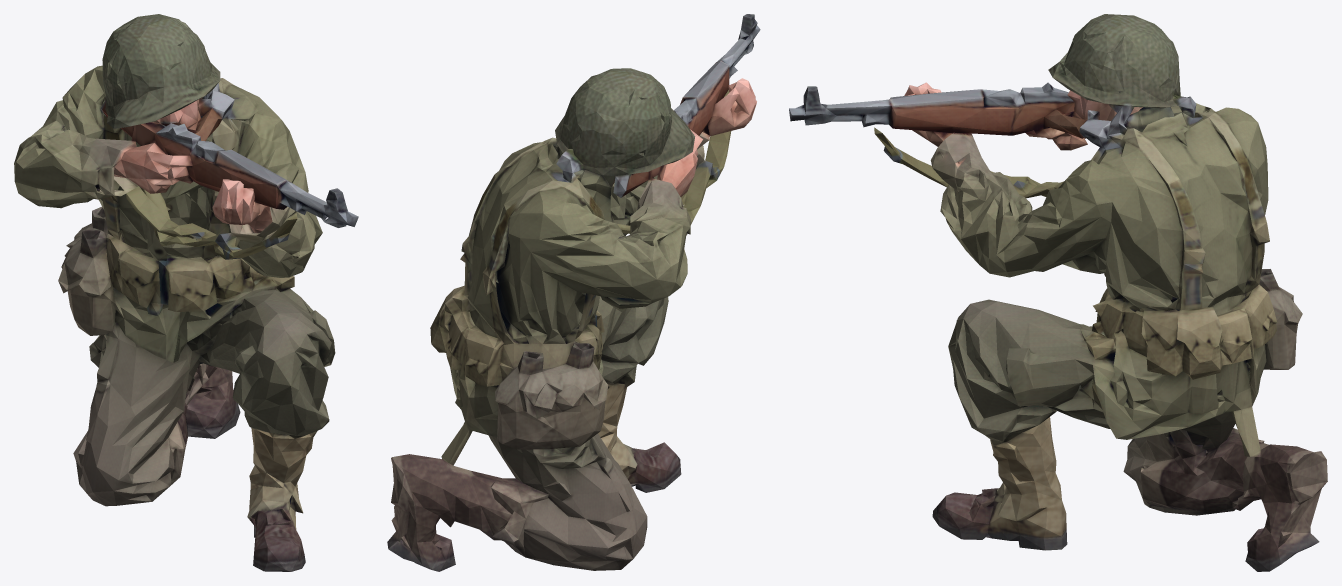
The model's file is ally_us_kneel.obj.
3 renders of one model, left to right at view 1: azimuth 30°, elevation 25°; view 2: azimuth 150°, elevation 25°; view 3: azimuth 270°, elevation 25°, orthographic. The views are drawn at different scales.
Visible parts, largest first — view 1: ally_us_kneel; view 2: ally_us_kneel; view 3: ally_us_kneel.
Boxes of the visible parts, bbox=[...] form: ally_us_kneel: bbox=[14, 14, 358, 571]; ally_us_kneel: bbox=[387, 14, 760, 571]; ally_us_kneel: bbox=[789, 14, 1327, 571].
Bounding box in the file's own units: 0.7152 × 1.3 × 1.3.
Materials: 1 (1 with a texture image).
